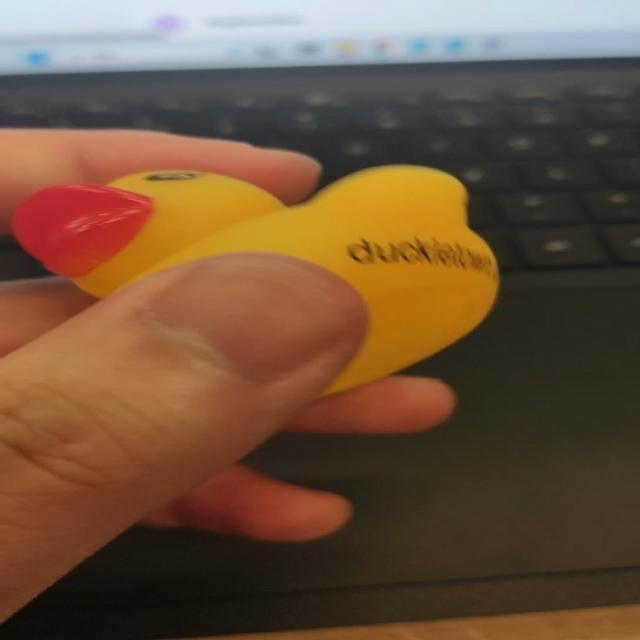rubber-duck: (12, 165, 497, 391)
